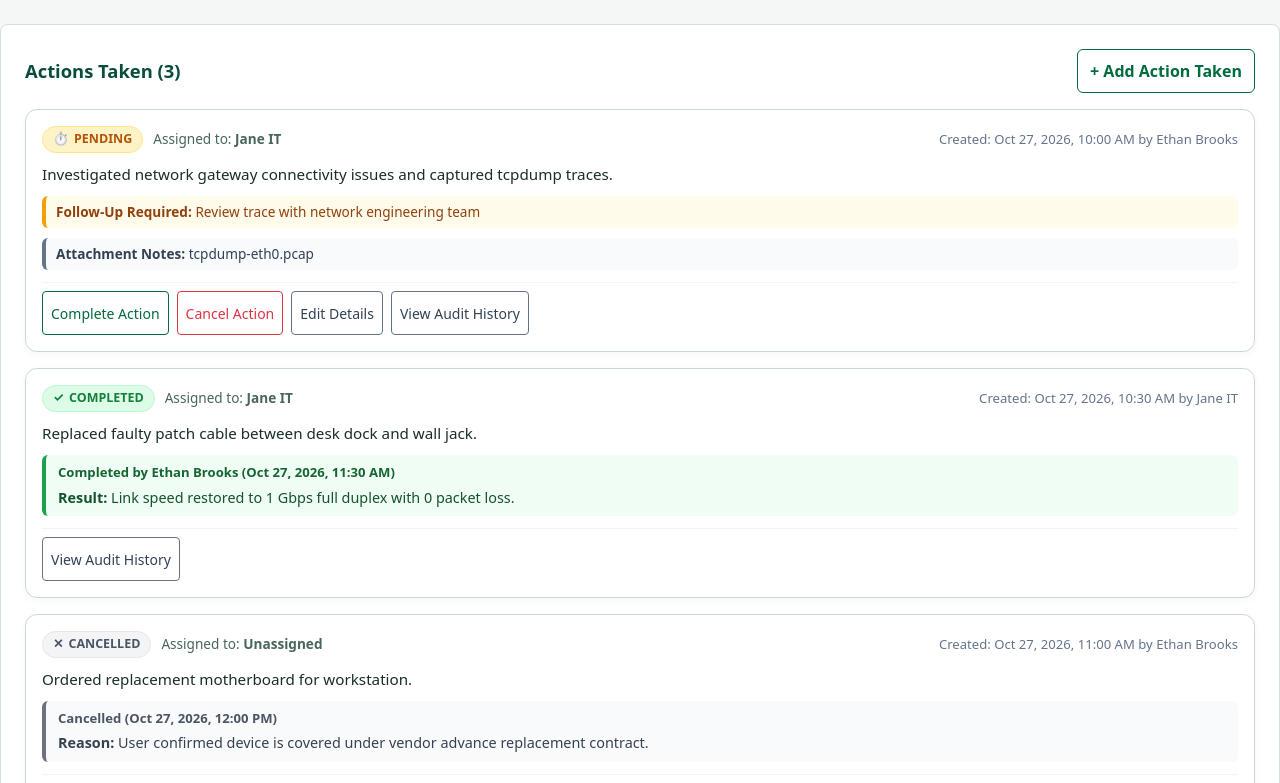
Test case: Lab 4: ActionsTakenSection Component Tests › requires at least 3 characters for completion result and submits completion
Click the button "Complete Action": [105, 313] box [42,291,169,335]
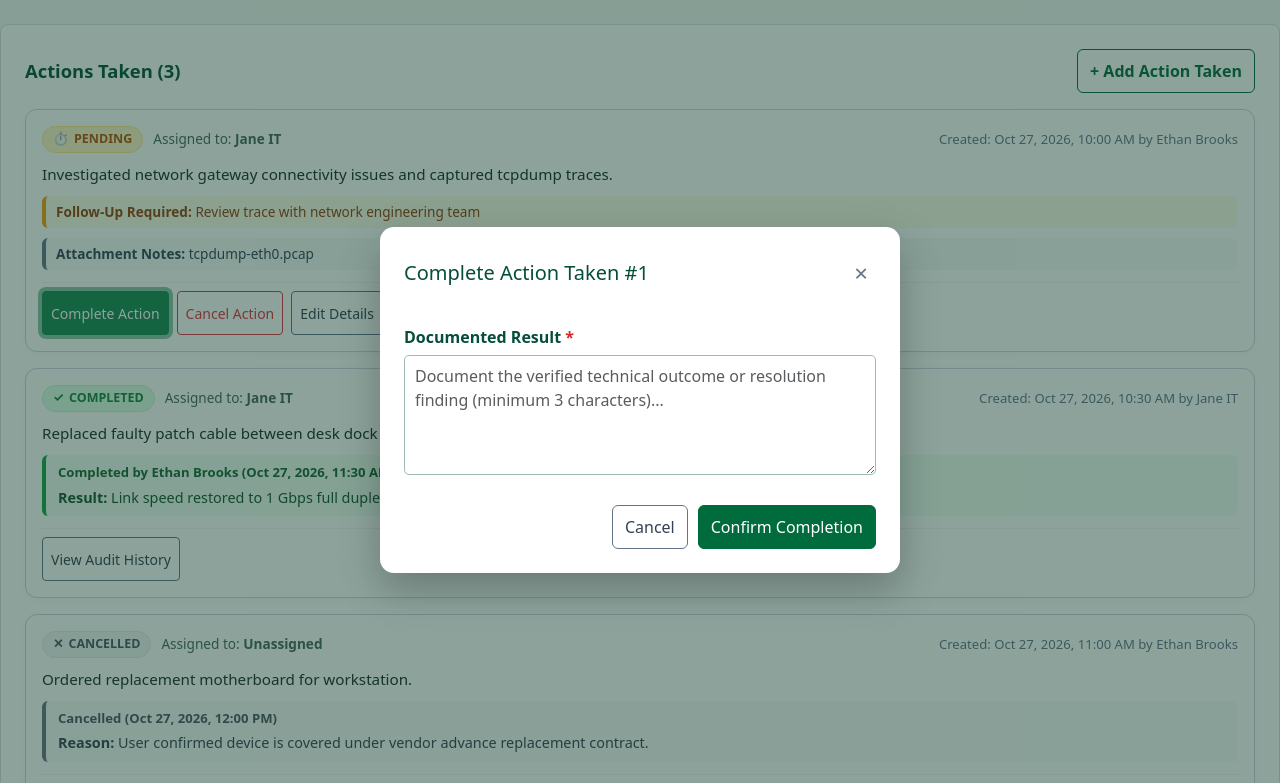
Now the dialog "Complete Action Taken" is shown, box [380,227,900,573]
Click the button "Confirm Completion": [787, 527] box [698,505,876,549]
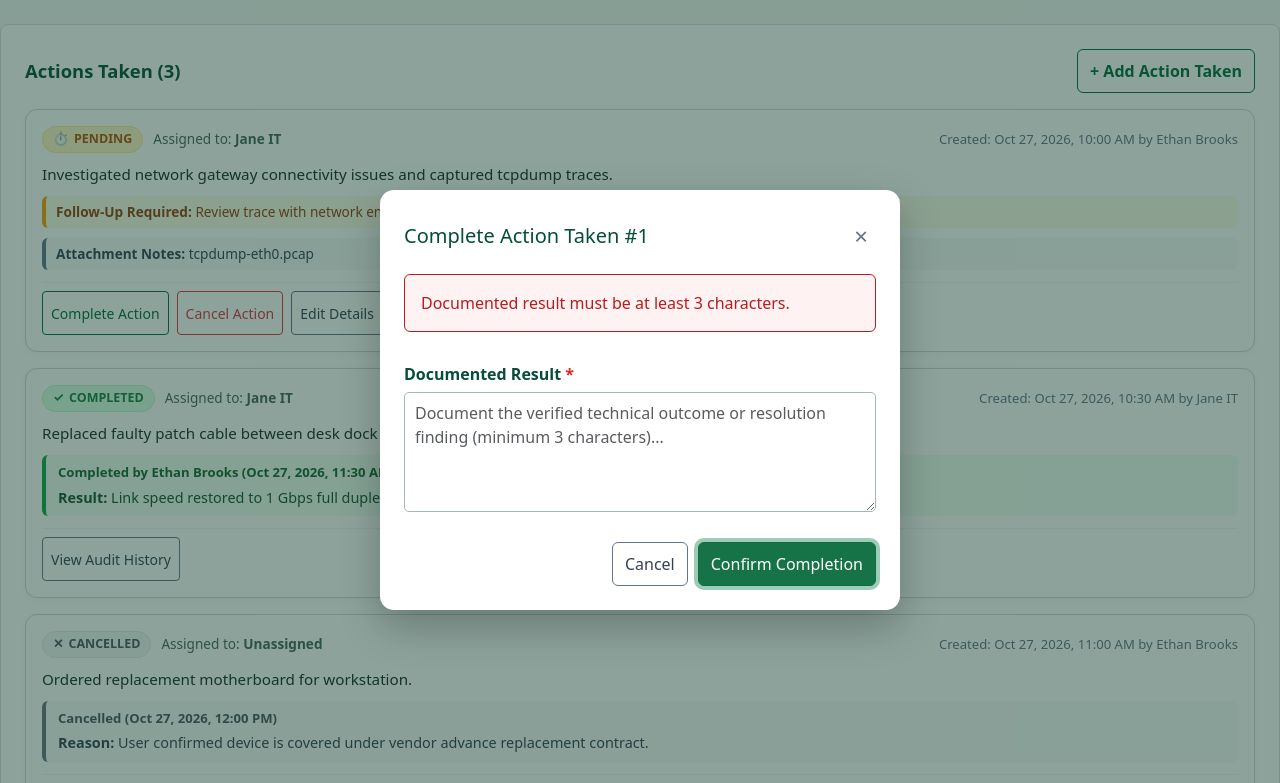
Now the text "Documented result must be at least 3 characters." is shown, box [404,274,876,332]
// Enter valid result
In the text box labelled "Documented Result *": [640, 452] box [404,392,876,512], type "Resolved by flushing ARP cache and restarting DHCP lease."
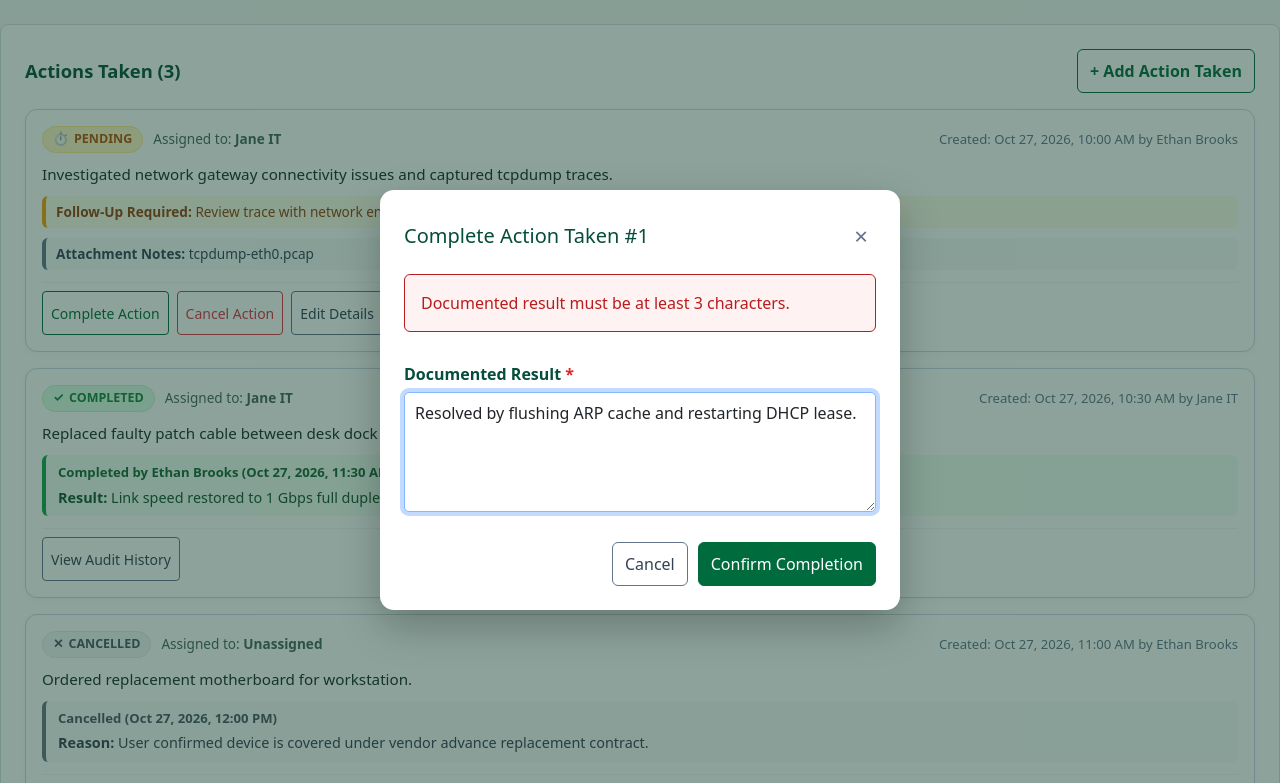
Click the button "Confirm Completion": [787, 564] box [698,542,876,586]
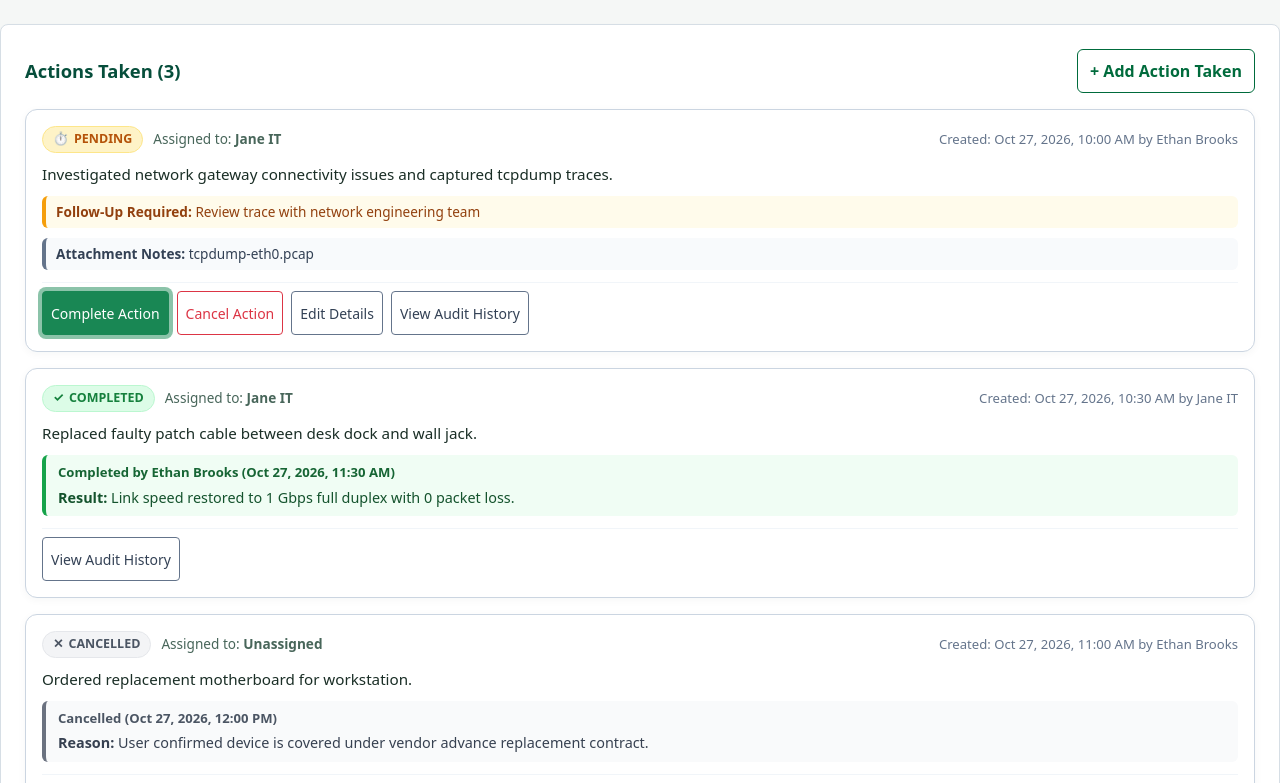
Now the dialog is gone
